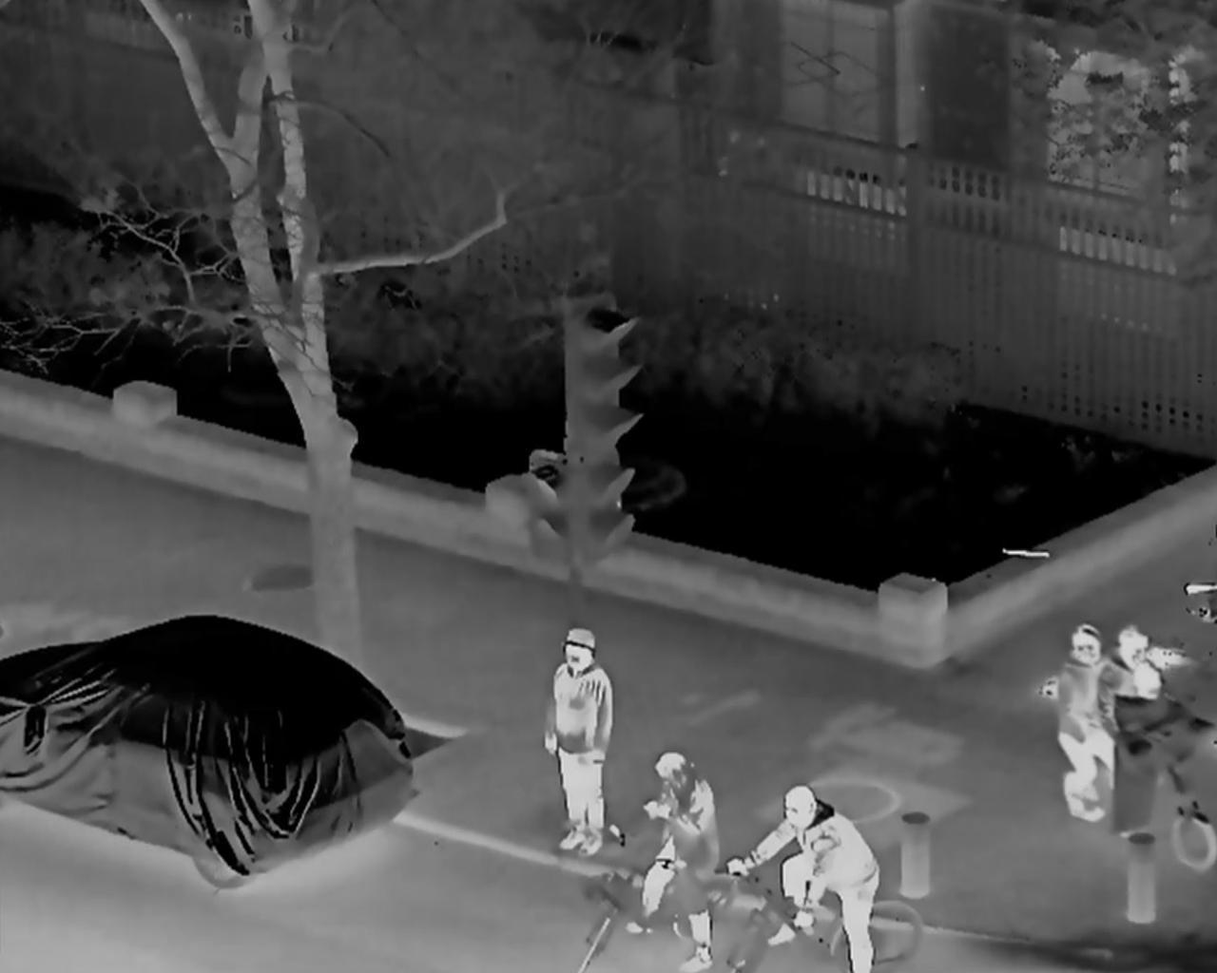person: (732, 787, 879, 973), (627, 752, 721, 967), (1101, 626, 1182, 817), (545, 629, 612, 855), (1062, 625, 1119, 811)
